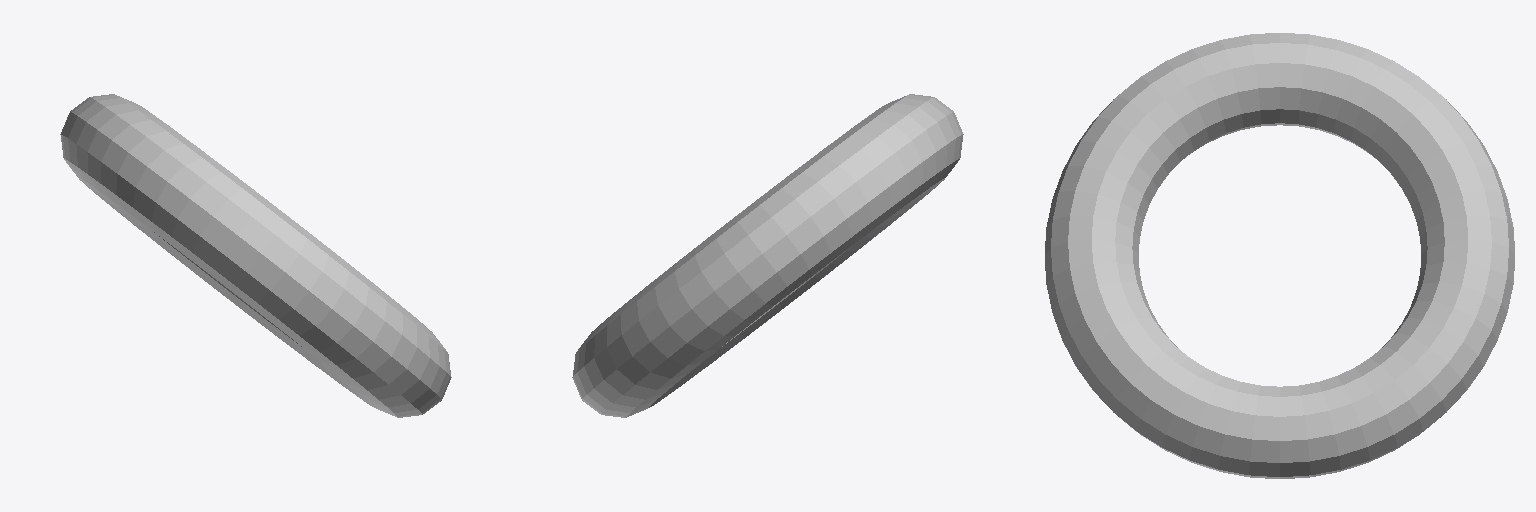
File: ring.obj
3 views of the same model, side by side, from view 1: azimuth 30°, elevation 25°; view 2: azimuth 150°, elevation 25°; view 3: azimuth 270°, elevation 25° (orthographic).
Parts seen in each view (by area): view 1: Torus; view 2: Torus; view 3: Torus.
Boxes of the visible parts, x1=… form: Torus: x1=60, y1=94, x2=451, y2=417; Torus: x1=572, y1=94, x2=963, y2=417; Torus: x1=1045, y1=33, x2=1514, y2=478.
Bounding box in the file's own units: 1.9 × 1.9 × 2.5.